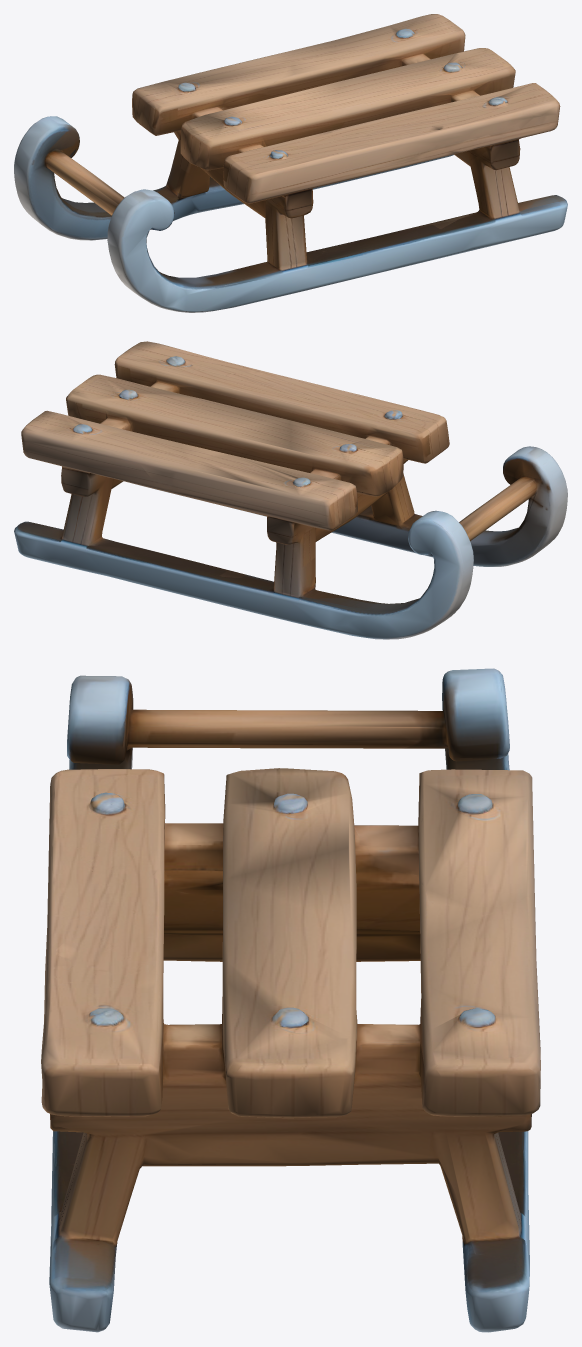
The model's file is sled.glb.
3 views of the same model, one above another, from view 1: azimuth 30°, elevation 25°; view 2: azimuth 150°, elevation 25°; view 3: azimuth 270°, elevation 25° (orthographic). The views are drawn at different scales.
Parts seen in each view (by area): view 1: node_0; view 2: node_0; view 3: node_0.
Part boxes in pixels (bbox=[...]): node_0: bbox=[14, 14, 567, 312]; node_0: bbox=[14, 341, 567, 639]; node_0: bbox=[41, 668, 540, 1332].
Size of the model in its own units: 1.09 by 0.3199 by 0.5274.
1 material, 1 textured.
